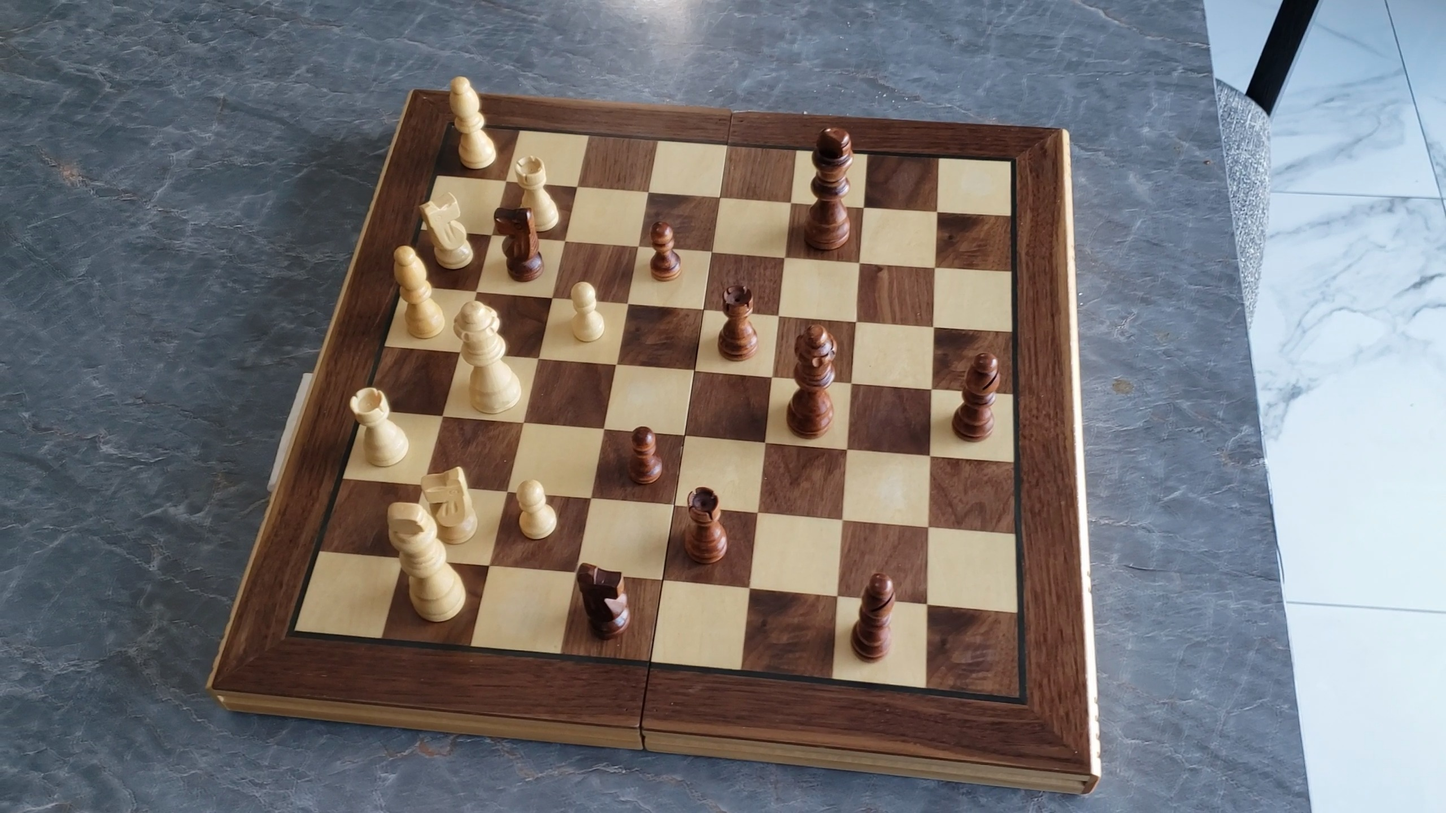black-bishop: (849, 567, 899, 663), (952, 349, 1003, 443)
black-king: (801, 116, 859, 254)
black-knight: (573, 560, 635, 642), (497, 204, 547, 283)
black-pawn: (626, 422, 665, 488), (647, 216, 683, 285)
black-queen: (782, 315, 844, 446)
black-rook: (682, 484, 730, 566), (715, 281, 760, 362)
white-bishop: (389, 243, 450, 343), (444, 71, 499, 172)
white-king: (381, 500, 472, 627)
white-knight: (420, 464, 483, 547), (416, 189, 479, 271)
white-pawn: (512, 475, 561, 544), (564, 278, 611, 347)
white-queen: (446, 298, 528, 414)
white-rook: (346, 384, 413, 470), (510, 152, 565, 237)
